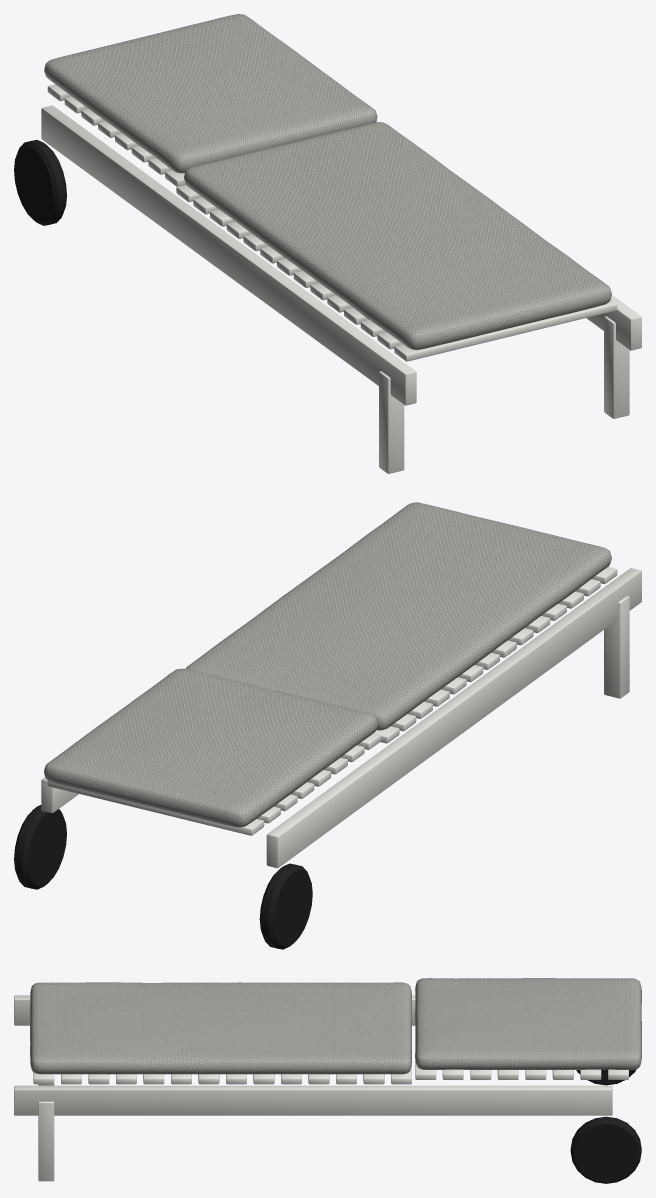
The model's file is tumbona_aluminio_tumbada.glb.
3 views of the same model, one above another, from view 1: azimuth 30°, elevation 25°; view 2: azimuth 150°, elevation 25°; view 3: azimuth 270°, elevation 25° (orthographic). The views are drawn at different scales.
Parts seen in each view (by area): view 1: tumbona_aluminio_tumbada; view 2: tumbona_aluminio_tumbada; view 3: tumbona_aluminio_tumbada.
Part boxes in pixels (x1=…): tumbona_aluminio_tumbada: x1=14, y1=14, x2=641, y2=473; tumbona_aluminio_tumbada: x1=14, y1=502, x2=641, y2=949; tumbona_aluminio_tumbada: x1=14, y1=978, x2=641, y2=1183.
Bounding box in the file's own units: 0.76 × 0.4079 × 1.94.
3 materials, 1 textured.
